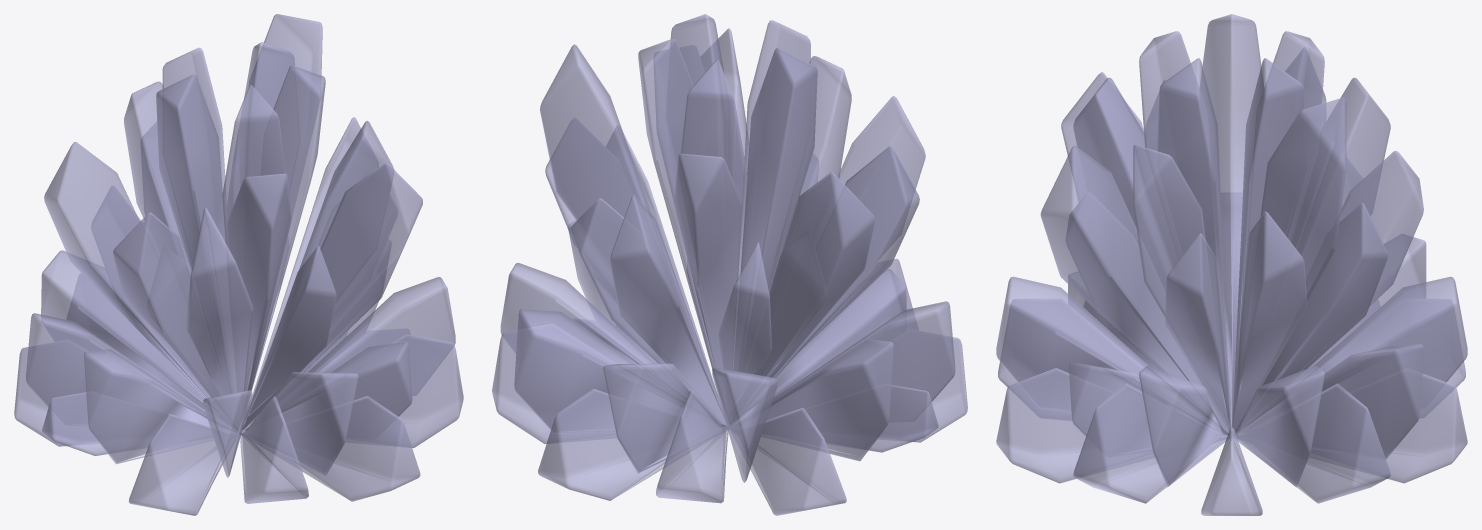
File: Crystal.fbx
The picture shows the model from 3 angles, left to right: view 1: azimuth 30°, elevation 25°; view 2: azimuth 150°, elevation 25°; view 3: azimuth 270°, elevation 25°; orthographic projection. The views are drawn at different scales.
Visible parts, largest first — view 1: CrystalPre; view 2: CrystalPre; view 3: CrystalPre.
Part boxes in pixels (x1,y1,x2,y2): CrystalPre: (14, 14, 463, 515); CrystalPre: (492, 14, 967, 515); CrystalPre: (996, 14, 1467, 515).
Bounding box in the file's own units: 1.19 × 1.15 × 1.21.
